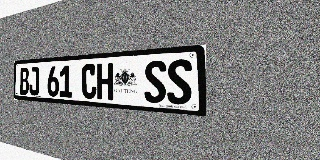1: (59, 65, 72, 98)
6: (47, 66, 59, 97)
B: (20, 67, 29, 95)
C: (82, 64, 96, 99)
H: (97, 63, 113, 100)
J: (29, 67, 39, 96)
S: (167, 59, 192, 105), (144, 60, 166, 104)
